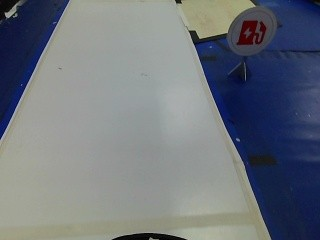battery: (225, 9, 274, 56)
